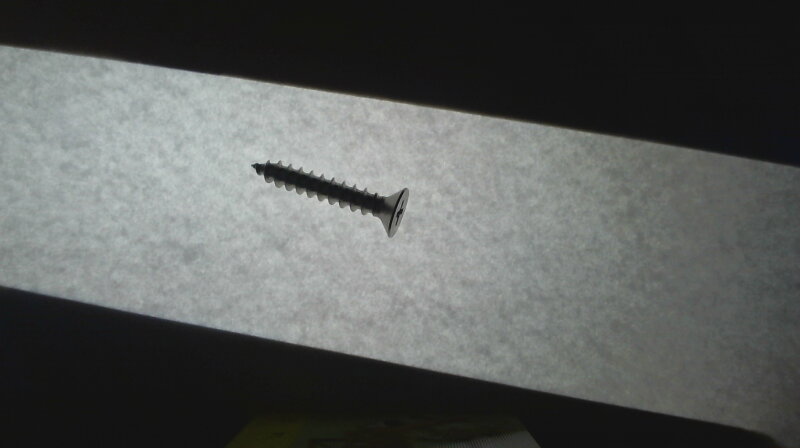S001: (247, 157, 412, 238)
